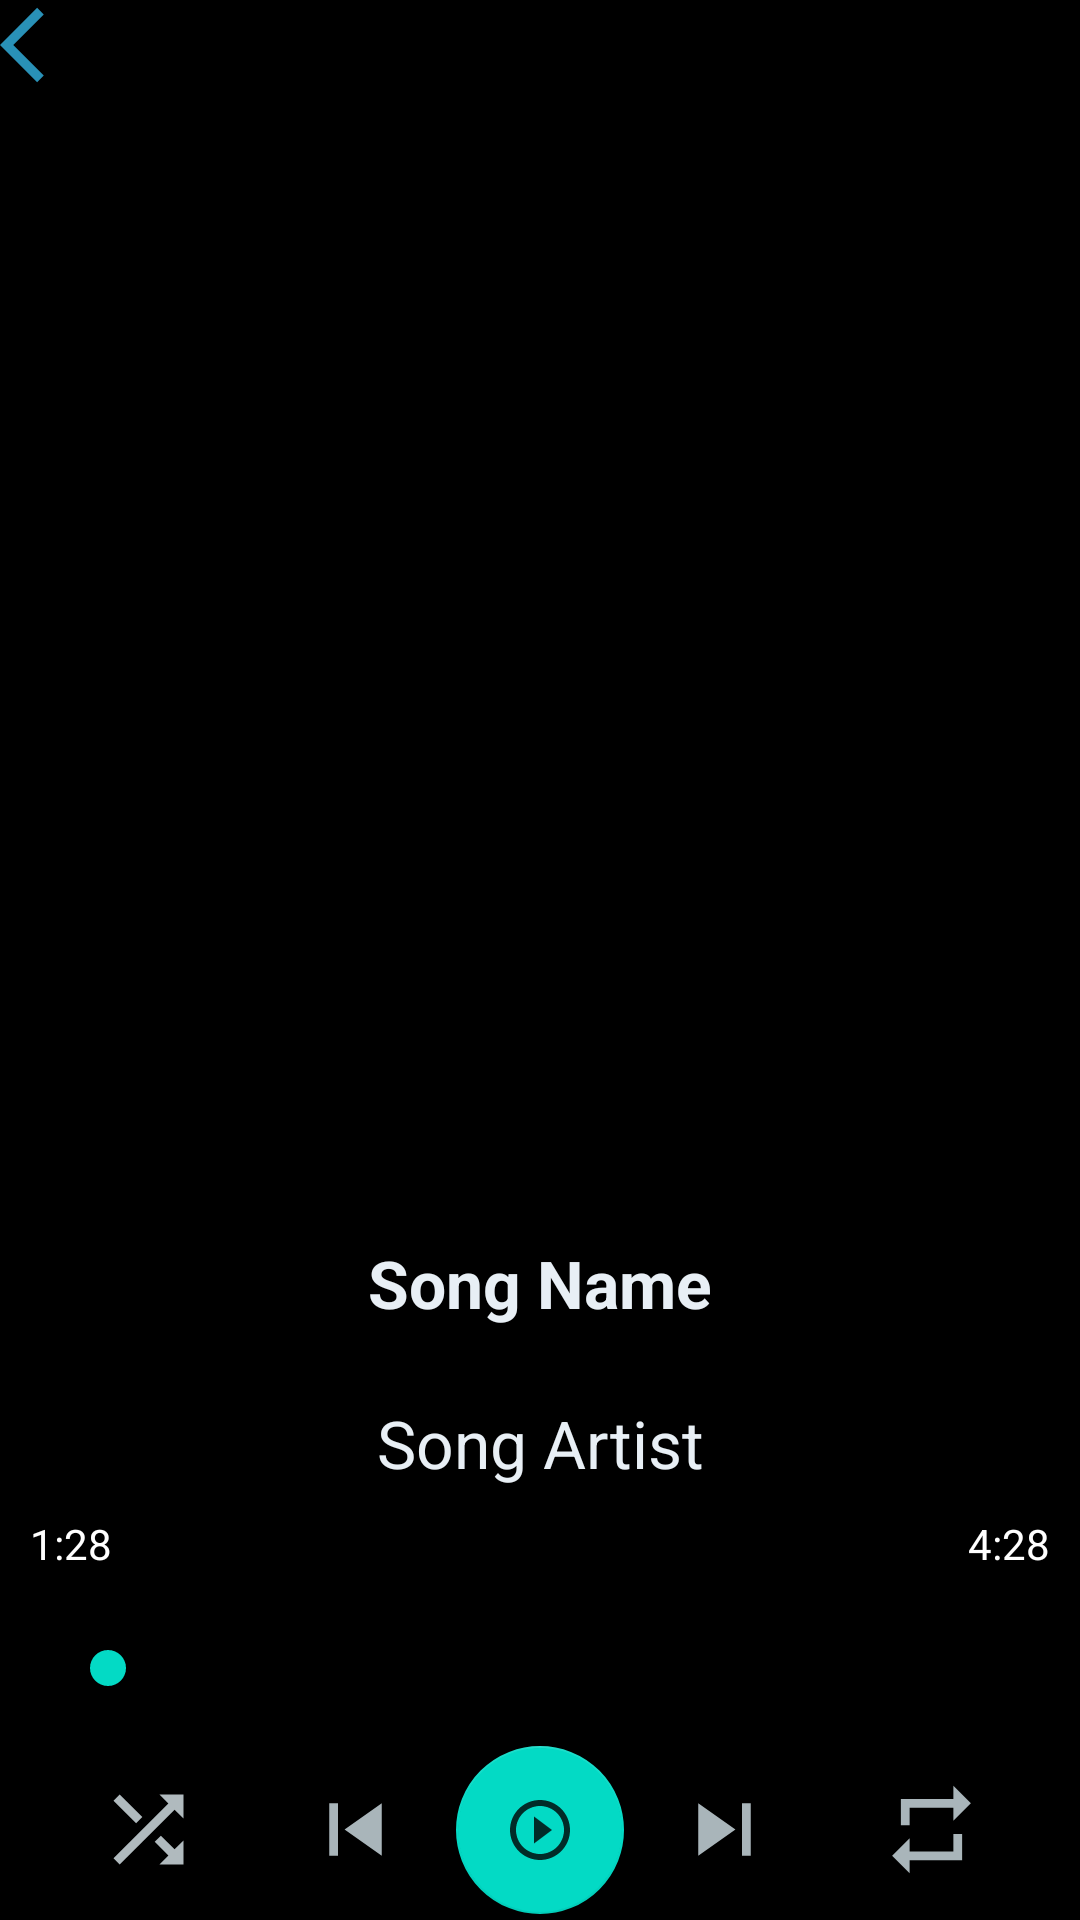

Where icons sit on this 1080 × 1920 app screen, as bbox=(x1, y1, x2, y2):
back: bbox=(0, 8, 44, 82)
next: bbox=(698, 1803, 751, 1856)
play: bbox=(456, 1746, 624, 1914)
prev: bbox=(329, 1803, 382, 1856)
repeat off: bbox=(892, 1786, 971, 1873)
shuffle off: bbox=(113, 1794, 184, 1865)
